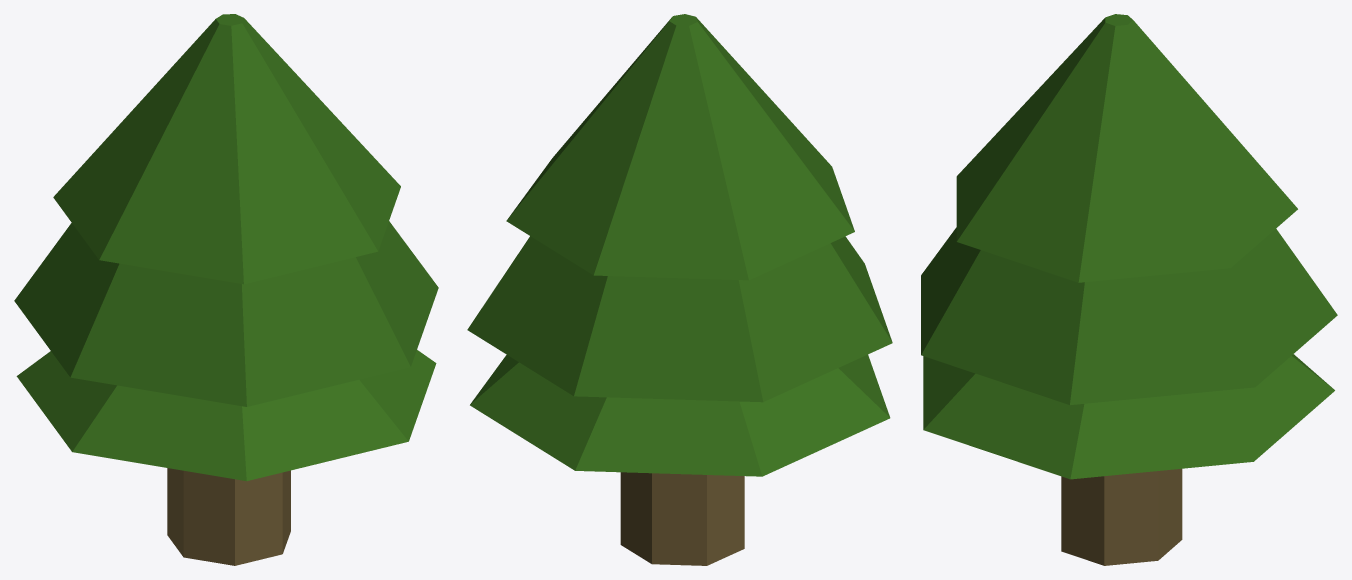
Rendered from tree1.fbx.
3 renders of one model, left to right at view 1: azimuth 30°, elevation 25°; view 2: azimuth 150°, elevation 25°; view 3: azimuth 270°, elevation 25°, orthographic.
Parts seen in each view (by area): view 1: Cylinder; view 2: Cylinder; view 3: Cylinder.
Boxes of the visible parts, <box> form: Cylinder: <box>14,14,438,565</box>; Cylinder: <box>467,14,892,565</box>; Cylinder: <box>921,14,1337,565</box>.
Size of the model in its own units: 205 by 276 by 201.
